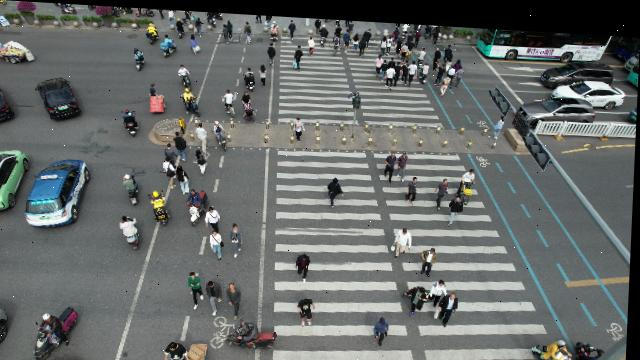non-motor-vehicle: (26, 303, 83, 360), (228, 315, 281, 348), (531, 329, 578, 360), (185, 185, 211, 226), (147, 187, 175, 225), (119, 212, 146, 249), (575, 333, 610, 360), (0, 40, 36, 66), (457, 161, 478, 201), (119, 172, 143, 205), (179, 85, 203, 115), (119, 106, 143, 136), (180, 85, 204, 115), (212, 117, 231, 150), (220, 86, 238, 116), (159, 31, 178, 57), (240, 62, 258, 89), (177, 62, 195, 88), (144, 19, 161, 43), (132, 45, 147, 70), (268, 16, 281, 38), (174, 16, 187, 37), (181, 8, 199, 23), (419, 57, 431, 79), (318, 20, 329, 42), (204, 10, 217, 26), (60, 3, 78, 14), (135, 7, 154, 17), (417, 43, 426, 63), (399, 19, 410, 35), (407, 34, 415, 55), (115, 6, 133, 14), (413, 20, 423, 33), (425, 20, 433, 34)
person: (165, 338, 212, 360), (435, 286, 461, 323), (404, 280, 431, 311), (206, 277, 226, 314), (189, 269, 207, 309), (393, 223, 414, 256), (228, 279, 244, 318), (241, 88, 259, 122), (300, 294, 320, 324), (230, 219, 246, 256), (422, 240, 439, 273), (149, 81, 167, 112), (328, 173, 345, 205), (432, 274, 450, 304), (163, 154, 179, 187), (450, 188, 466, 221), (376, 312, 393, 343), (173, 129, 189, 161), (206, 203, 224, 231), (210, 226, 226, 257), (195, 120, 211, 151), (176, 162, 192, 192), (436, 173, 451, 205), (297, 249, 313, 278), (386, 147, 398, 180), (164, 140, 179, 166), (196, 146, 210, 173), (398, 147, 410, 177), (292, 41, 304, 69), (293, 114, 307, 138), (434, 55, 446, 82), (408, 171, 419, 200), (438, 69, 452, 91), (256, 61, 267, 86), (265, 39, 276, 64), (494, 109, 505, 134), (407, 55, 417, 82), (386, 60, 396, 85), (189, 32, 201, 52), (432, 43, 442, 66), (394, 56, 403, 81), (443, 38, 453, 60), (401, 55, 409, 81), (343, 25, 352, 48), (456, 60, 465, 83), (243, 18, 252, 41), (332, 29, 341, 51), (363, 23, 372, 45), (380, 55, 389, 77), (453, 53, 462, 74), (221, 21, 230, 42), (194, 14, 203, 34), (401, 37, 409, 59), (352, 29, 360, 50), (448, 59, 455, 83), (358, 33, 366, 53), (432, 20, 440, 40), (376, 50, 383, 72), (307, 33, 315, 52), (396, 32, 403, 53), (167, 8, 176, 24), (446, 48, 454, 66), (380, 31, 387, 51), (227, 18, 234, 38), (392, 22, 399, 41), (414, 23, 421, 42), (386, 31, 392, 51), (347, 17, 354, 34), (335, 20, 342, 35), (314, 15, 321, 30), (156, 8, 165, 19), (389, 52, 396, 65), (265, 13, 272, 26), (407, 25, 414, 37), (334, 16, 340, 24), (345, 16, 349, 24), (395, 19, 400, 24)
